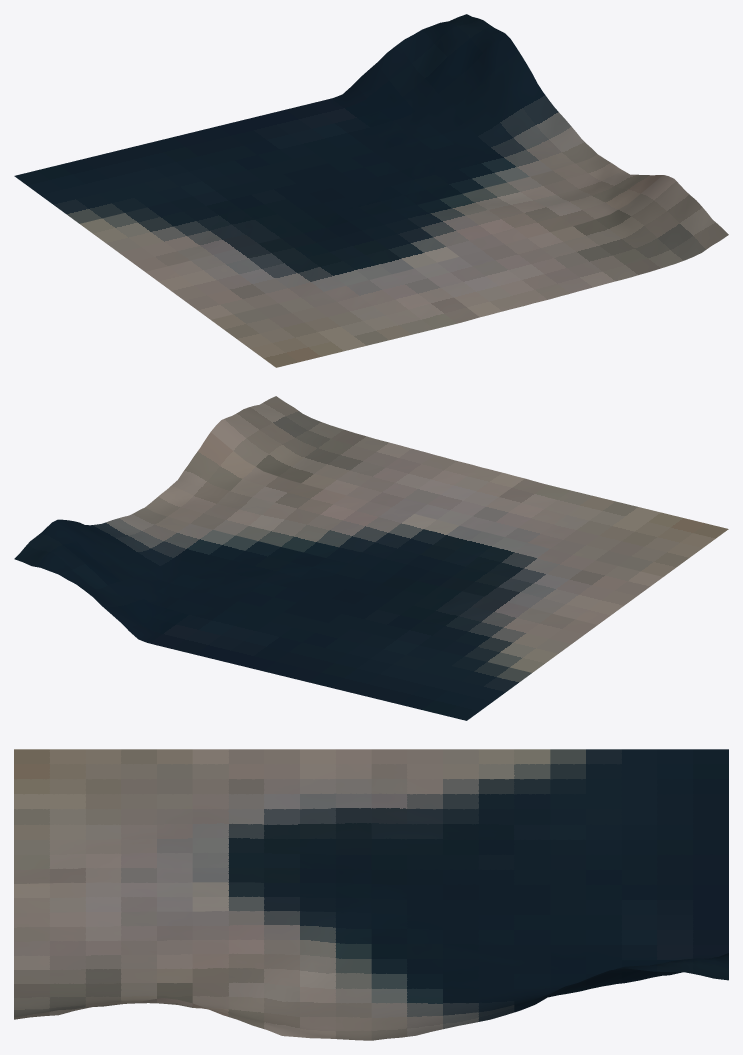
Rendered from iquique.gltf.
3 renders of one model, top to bottom at view 1: azimuth 30°, elevation 25°; view 2: azimuth 150°, elevation 25°; view 3: azimuth 270°, elevation 25°, orthographic. The views are drawn at different scales.
Visible parts, largest first — view 1: TerrainNode; view 2: TerrainNode; view 3: TerrainNode.
Boxes of the visible parts, x1,y1,x2,y2 form: TerrainNode: (14,14,728,367); TerrainNode: (14,396,728,720); TerrainNode: (14,749,728,1040).
Bounding box in the file's own units: 12.64 × 1.61 × 12.68.
1 material, 1 textured.
